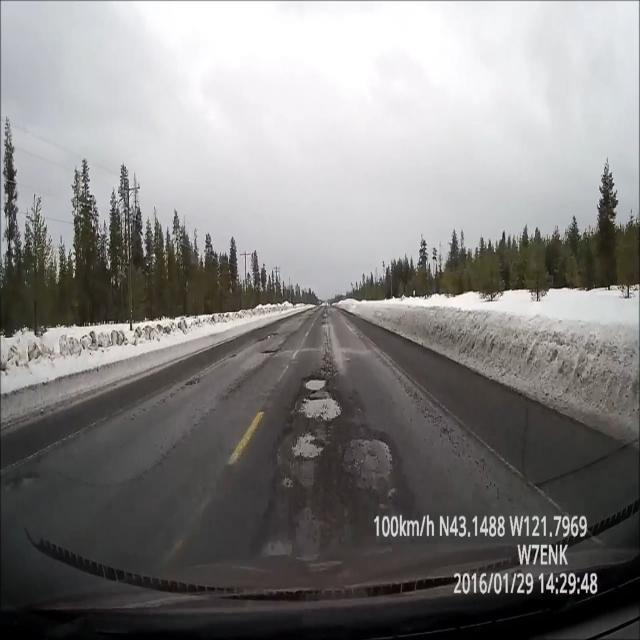pothole: (292, 367, 345, 474), (345, 431, 395, 502)
